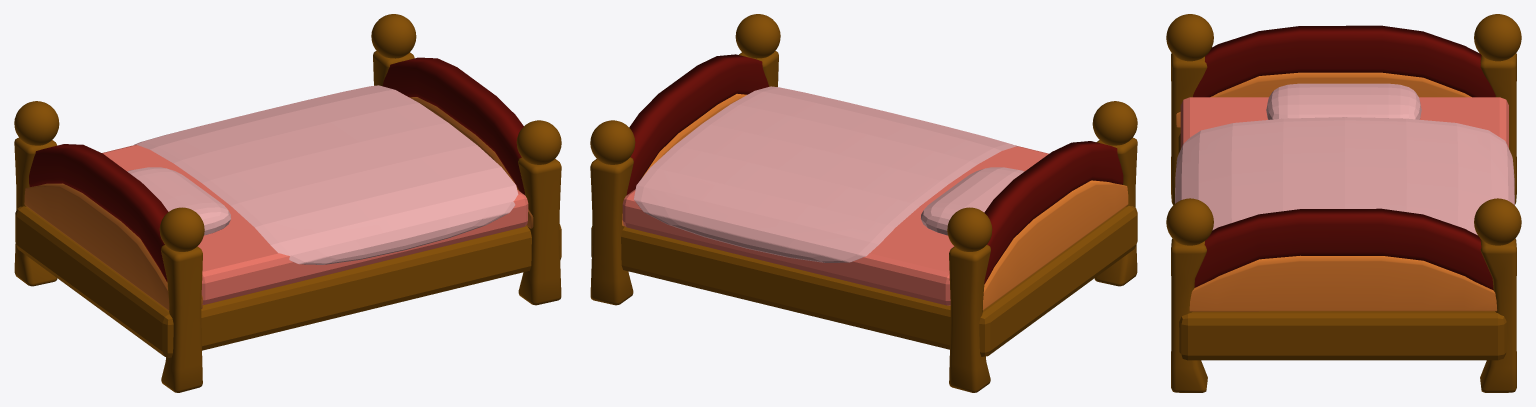
The model's file is Bed2.fbx.
3 views of the same model, side by side, from view 1: azimuth 30°, elevation 25°; view 2: azimuth 150°, elevation 25°; view 3: azimuth 270°, elevation 25° (orthographic). The views are drawn at different scales.
Parts seen in each view (by area): view 1: BedSheet, Bed, Plane.002, BedCube, BedMattress.001, Plane.001, BedSphere, BedPillow; view 2: BedSheet, Bed, Plane.002, BedCube, BedMattress.001, Plane.001, BedSphere, BedPillow; view 3: BedSheet, Plane.002, Plane.001, Bed, BedCube, BedSphere, BedMattress.001, BedPillow.
Boxes of the visible parts, box(x1,y1,x2,y2) form: BedSheet: box(134, 85, 518, 264); Bed: box(15, 206, 561, 357); Plane.002: box(29, 57, 524, 281); BedCube: box(14, 51, 561, 392); BedMattress.001: box(102, 145, 528, 304); Plane.001: box(24, 97, 533, 310); BedSphere: box(14, 14, 561, 251); BedPillow: box(127, 167, 230, 235); BedSheet: box(633, 86, 1017, 262); Bed: box(591, 206, 1137, 356); Plane.002: box(626, 54, 1123, 284); BedCube: box(590, 51, 1137, 392); BedMattress.001: box(622, 145, 1048, 305); Plane.001: box(622, 93, 1128, 310); BedSphere: box(590, 14, 1137, 251); BedPillow: box(921, 167, 1024, 235); BedSheet: box(1175, 117, 1514, 235); Plane.002: box(1193, 25, 1495, 290); Plane.001: box(1176, 72, 1496, 311); Bed: box(1178, 133, 1506, 360); BedCube: box(1171, 53, 1516, 392); BedSphere: box(1166, 14, 1521, 245); BedMattress.001: box(1180, 97, 1508, 148); BedPillow: box(1266, 83, 1421, 119).
Bounding box in the file's own units: 155 × 65.63 × 113.
